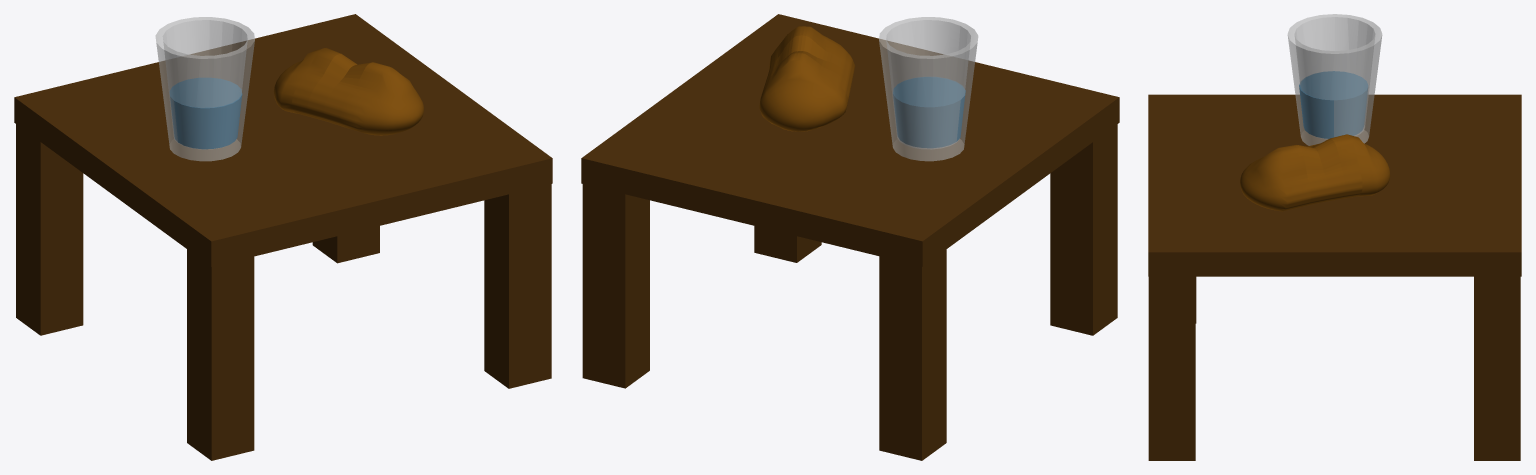
3 views of the same model, side by side, from view 1: azimuth 30°, elevation 25°; view 2: azimuth 150°, elevation 25°; view 3: azimuth 270°, elevation 25° (orthographic). The views are drawn at different scales.
Visible parts, largest first — view 1: table2, cup, bread, water; view 2: table2, cup, bread, water; view 3: table2, cup, bread, water.
Boxes of the visible parts, box(x1,y1,x2,y2) form: table2: box(14, 14, 552, 460); cup: box(155, 17, 254, 161); bread: box(273, 48, 424, 135); water: box(170, 78, 242, 149); table2: box(581, 14, 1119, 460); cup: box(879, 17, 978, 161); bread: box(759, 26, 855, 131); water: box(893, 77, 965, 147); table2: box(1148, 94, 1521, 460); cup: box(1287, 14, 1382, 145); bread: box(1240, 134, 1390, 211); water: box(1299, 71, 1367, 138).
Size of the model in its own units: 3.63 by 3.34 by 3.63.
